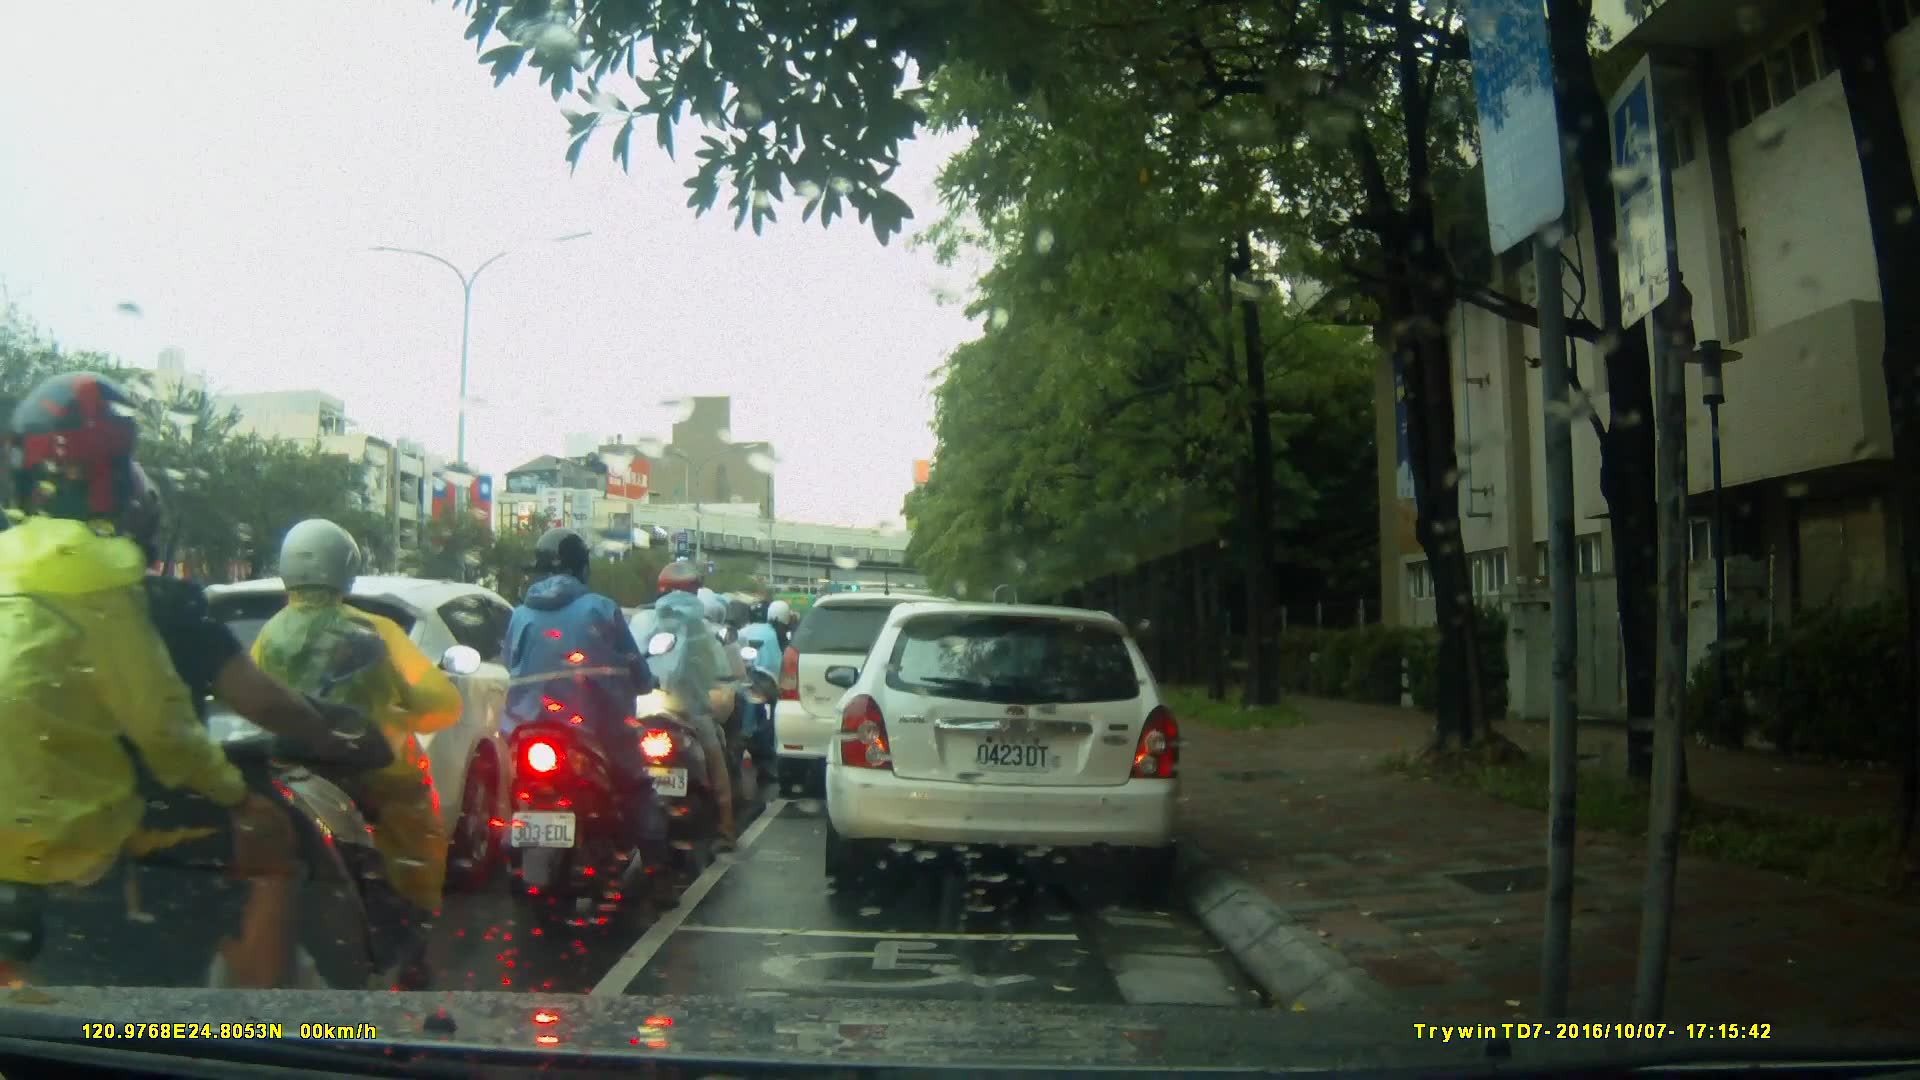rider: (1, 369, 374, 1063), (237, 521, 475, 1001), (498, 528, 682, 913), (611, 560, 736, 845), (653, 584, 762, 823), (734, 597, 795, 754)
vehicle: (155, 575, 599, 865), (822, 604, 1188, 883), (774, 595, 995, 802)
